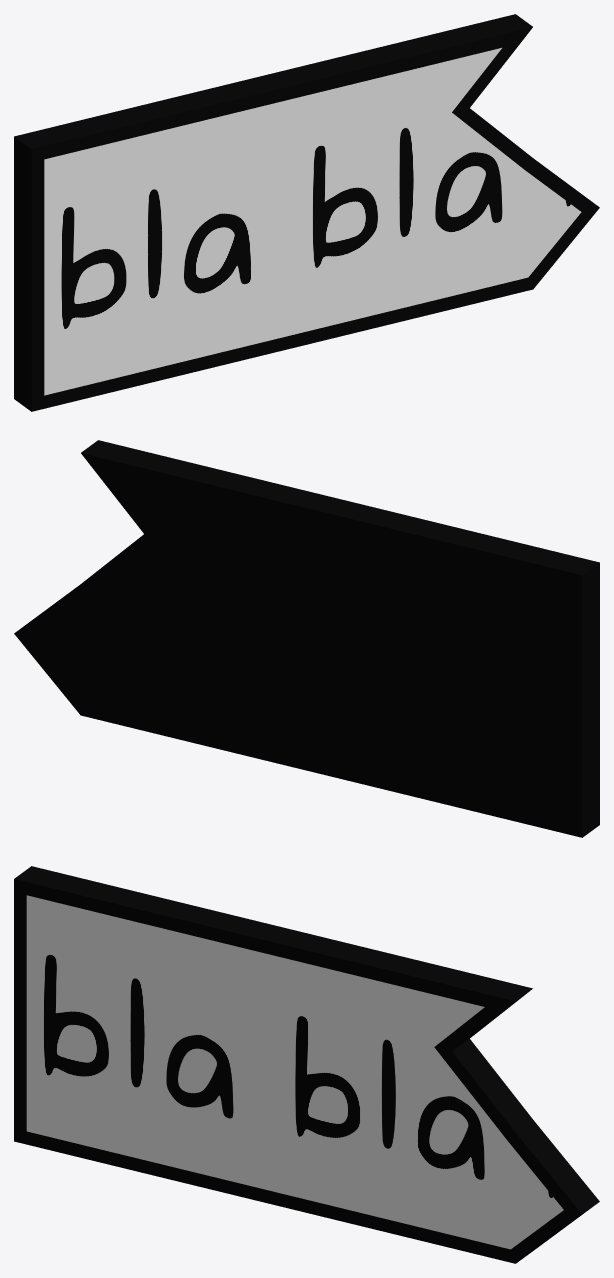
The model's file is mdl_poland_poempieces_1.gltf.
The picture shows the model from 3 angles, top to bottom: view 1: azimuth 30°, elevation 25°; view 2: azimuth 150°, elevation 25°; view 3: azimuth 330°, elevation 25°; orthographic projection.
Visible parts, largest first — view 1: Plane.003; view 2: Plane.003; view 3: Plane.003.
Part boxes in pixels (x1,y1,x2,y2): Plane.003: (14,14,599,411); Plane.003: (14,440,599,837); Plane.003: (14,866,599,1263).
Size of the model in its own units: 0.5665 by 0.25 by 0.0304.
Materials: 2 (2 with a texture image).
